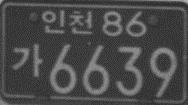3: (116, 44, 143, 98)
6: (81, 44, 110, 96), (49, 43, 77, 95), (125, 10, 147, 37)
8: (101, 10, 122, 37)
9: (150, 46, 177, 99)
가: (11, 42, 44, 80)
인천_O: (41, 7, 94, 36)
